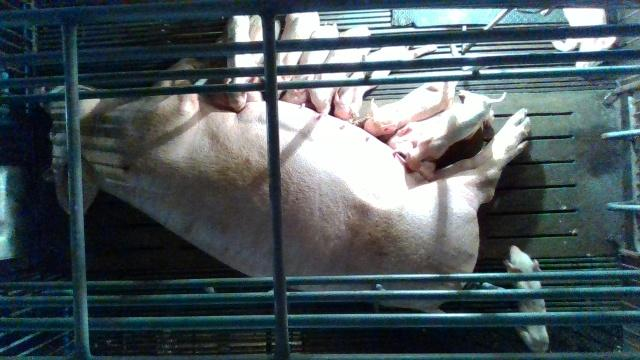piglet: (394, 89, 509, 173), (330, 48, 419, 119), (354, 81, 459, 139), (309, 25, 372, 115), (504, 244, 550, 351), (280, 25, 338, 105), (554, 8, 616, 67), (226, 15, 253, 112)
sow-sleep-lactate: (41, 58, 528, 315)
